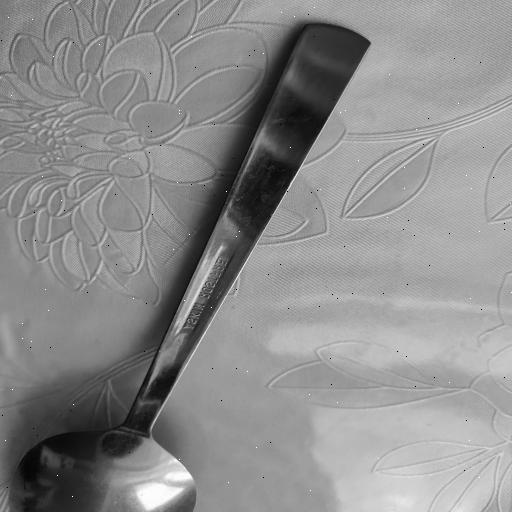spoon: (1, 24, 375, 510)
